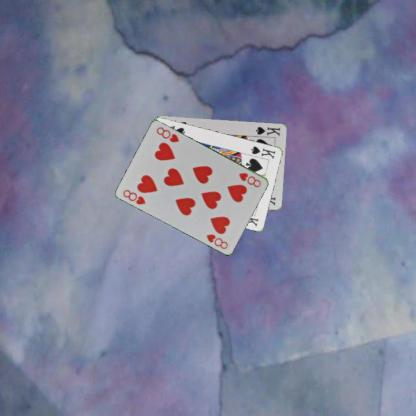8h: (120, 186, 147, 206), (236, 170, 262, 188)
Ks: (248, 143, 277, 160), (253, 124, 281, 137)
